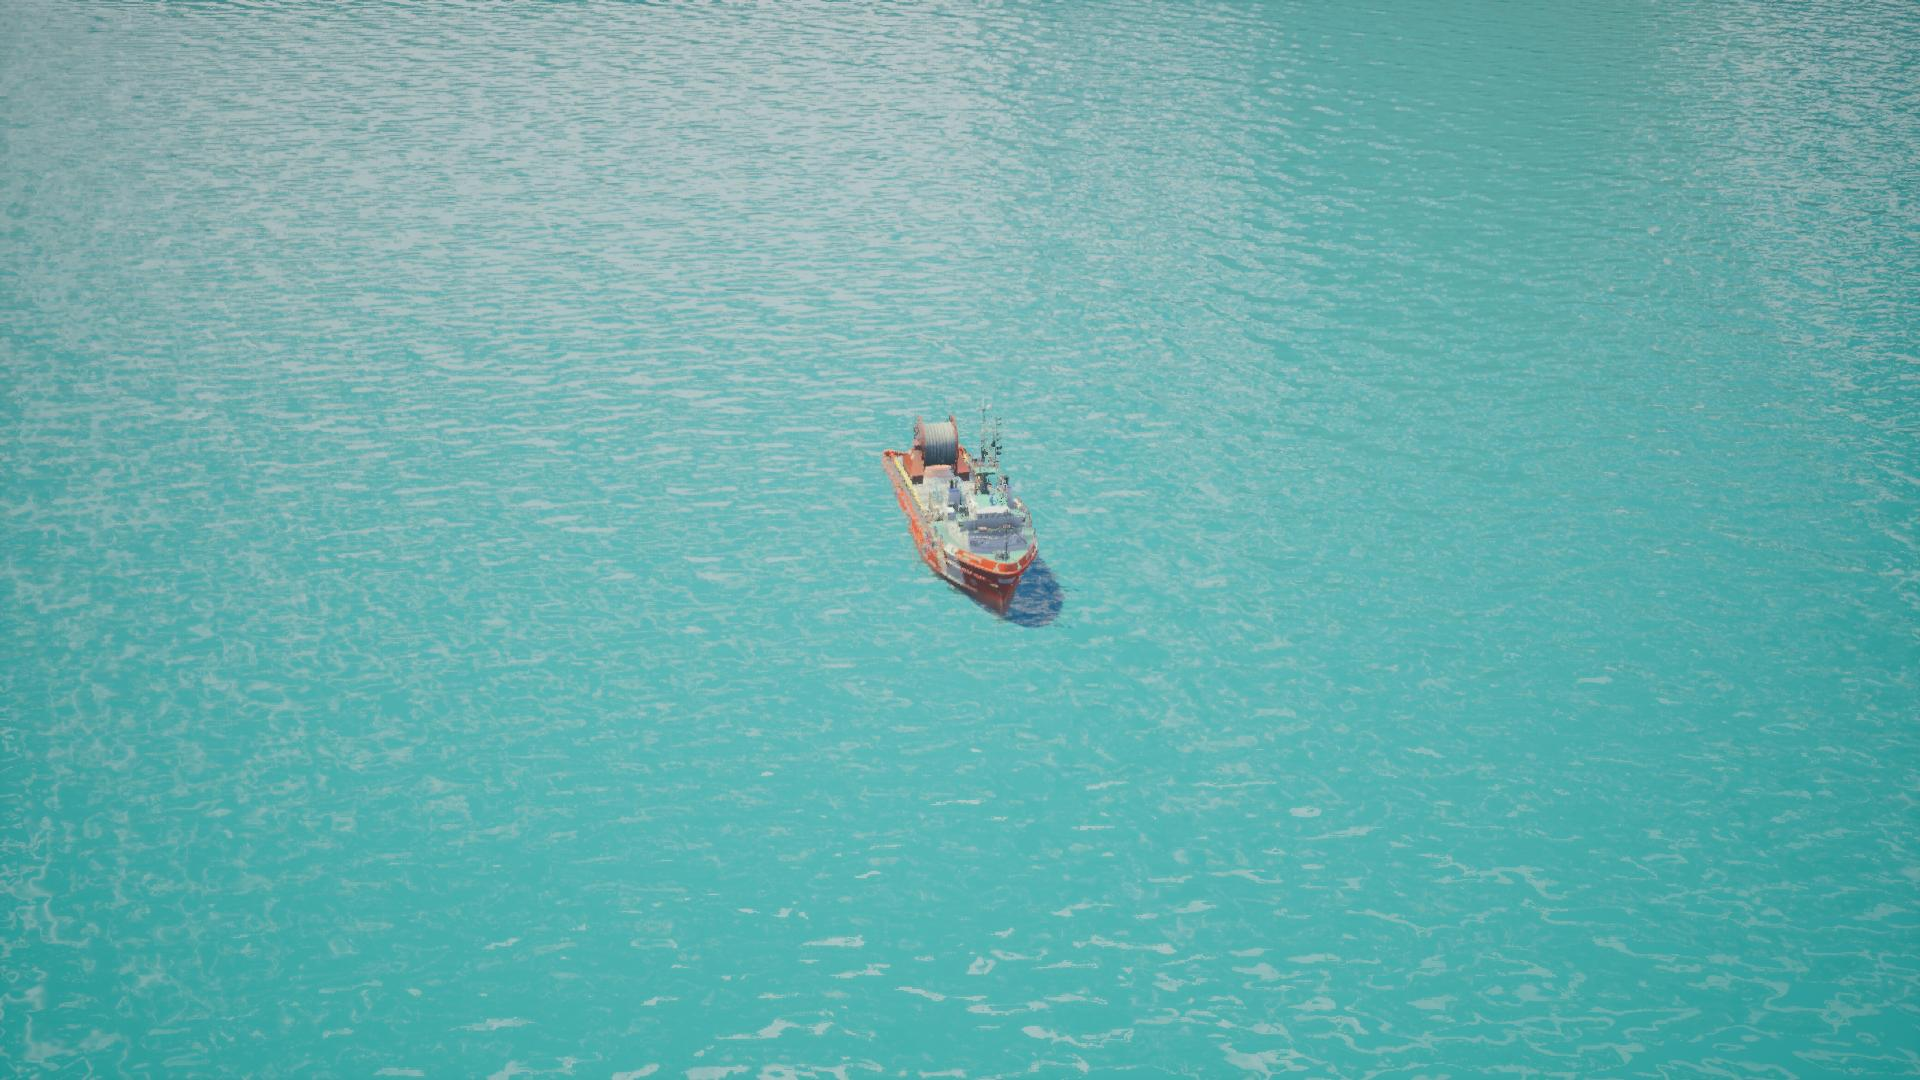Tug Boat: (860, 381, 1062, 617)
